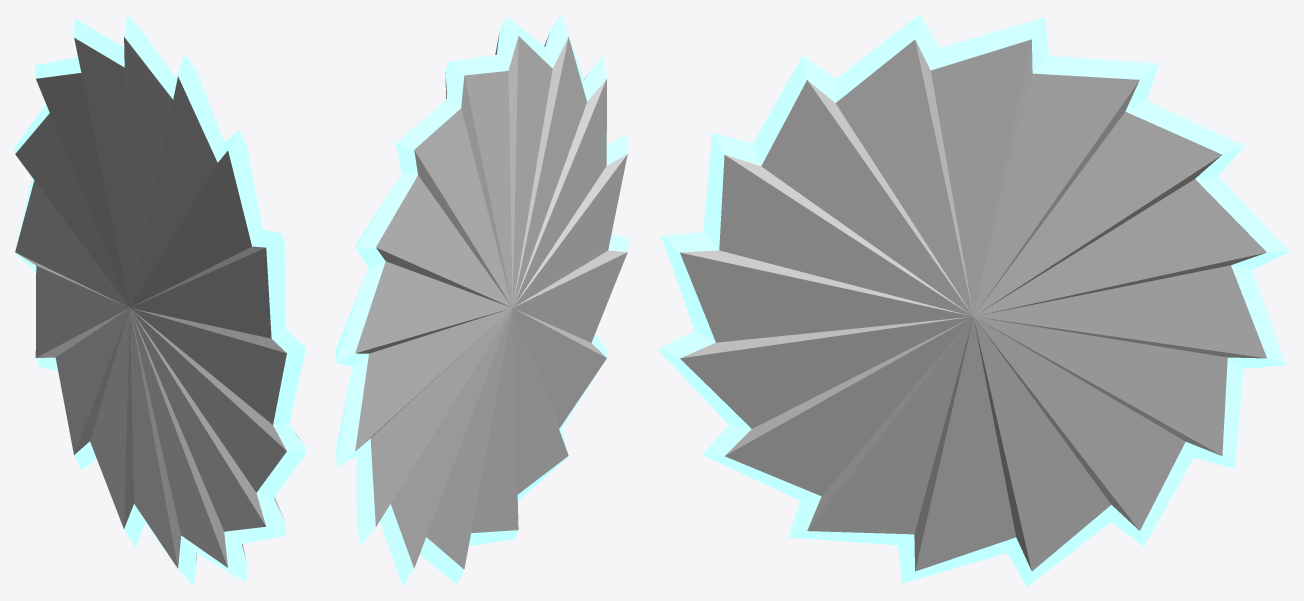
The model's file is Chainsaw.fbx.
3 views of the same model, side by side, from view 1: azimuth 30°, elevation 25°; view 2: azimuth 150°, elevation 25°; view 3: azimuth 270°, elevation 25° (orthographic). The views are drawn at different scales.
Visible parts, largest first — view 1: Chainsaw; view 2: Chainsaw; view 3: Chainsaw.
Part boxes in pixels (x1,y1,x2,y2): Chainsaw: (14, 14, 306, 586); Chainsaw: (335, 14, 628, 586); Chainsaw: (657, 14, 1289, 586).
Size of the model in its own units: 66.48 by 550 by 550.
